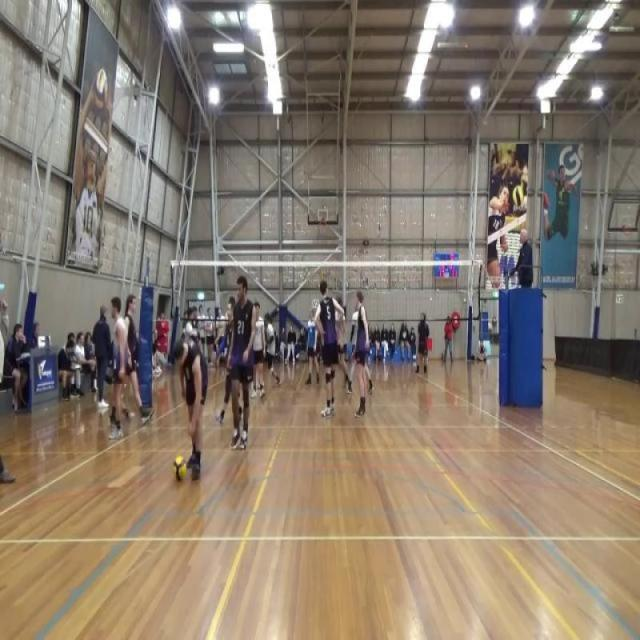volleyball: (94, 66, 108, 111), (173, 456, 186, 484), (512, 186, 524, 206)
